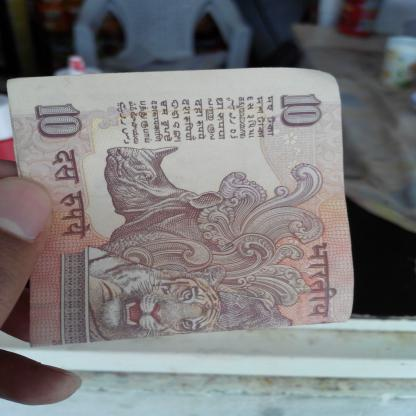Old10Back: (5, 67, 356, 348)
